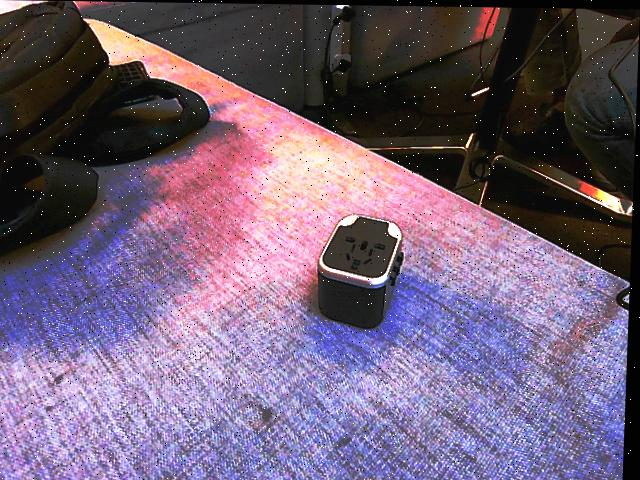adapter: (316, 211, 407, 328)
